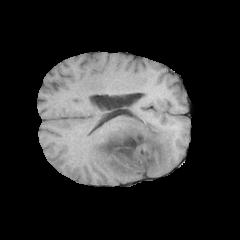glioma: (86, 105, 177, 181)
